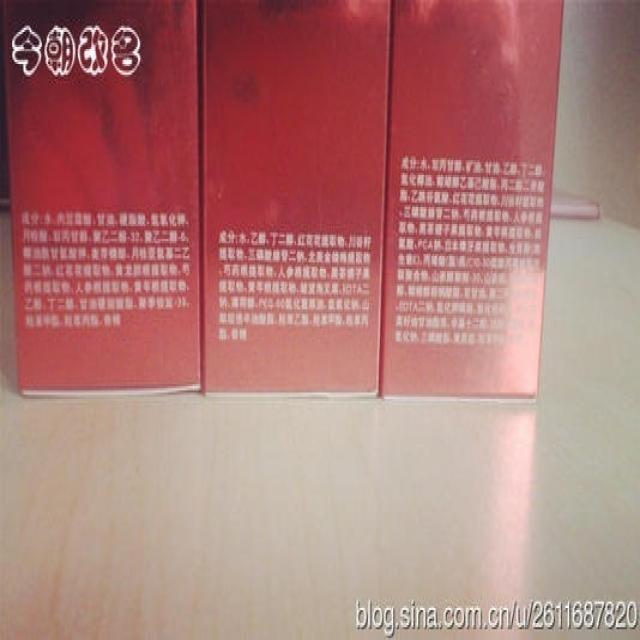box: (2, 0, 200, 399), (199, 0, 392, 397), (380, 0, 566, 405)
